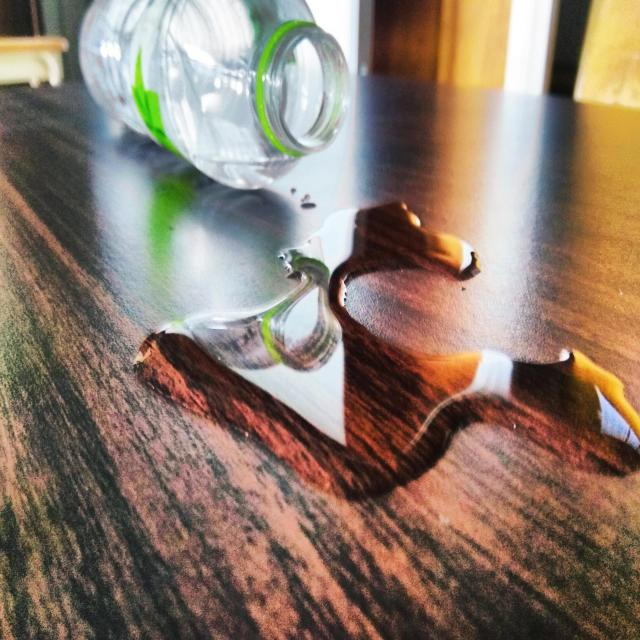plastic: (75, 0, 359, 206)
